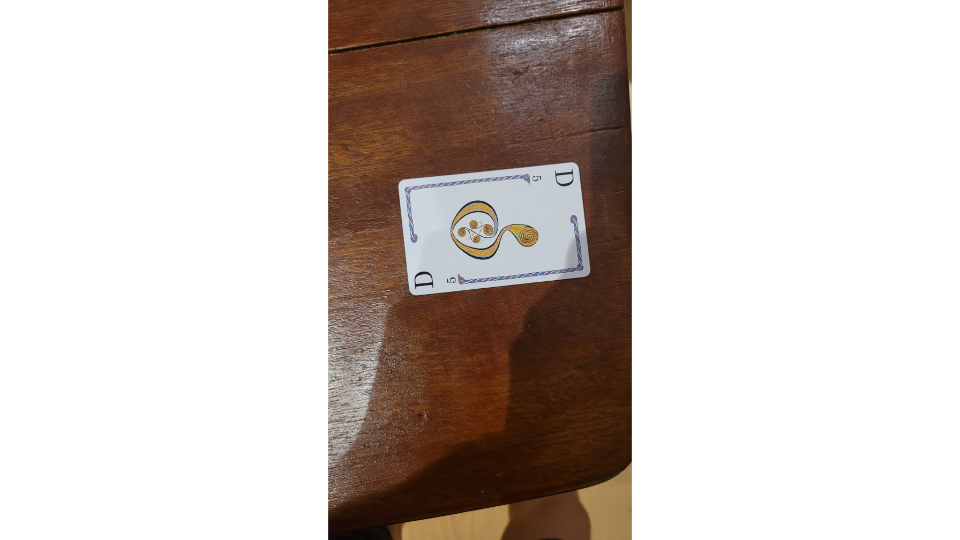D: (394, 159, 594, 299)
